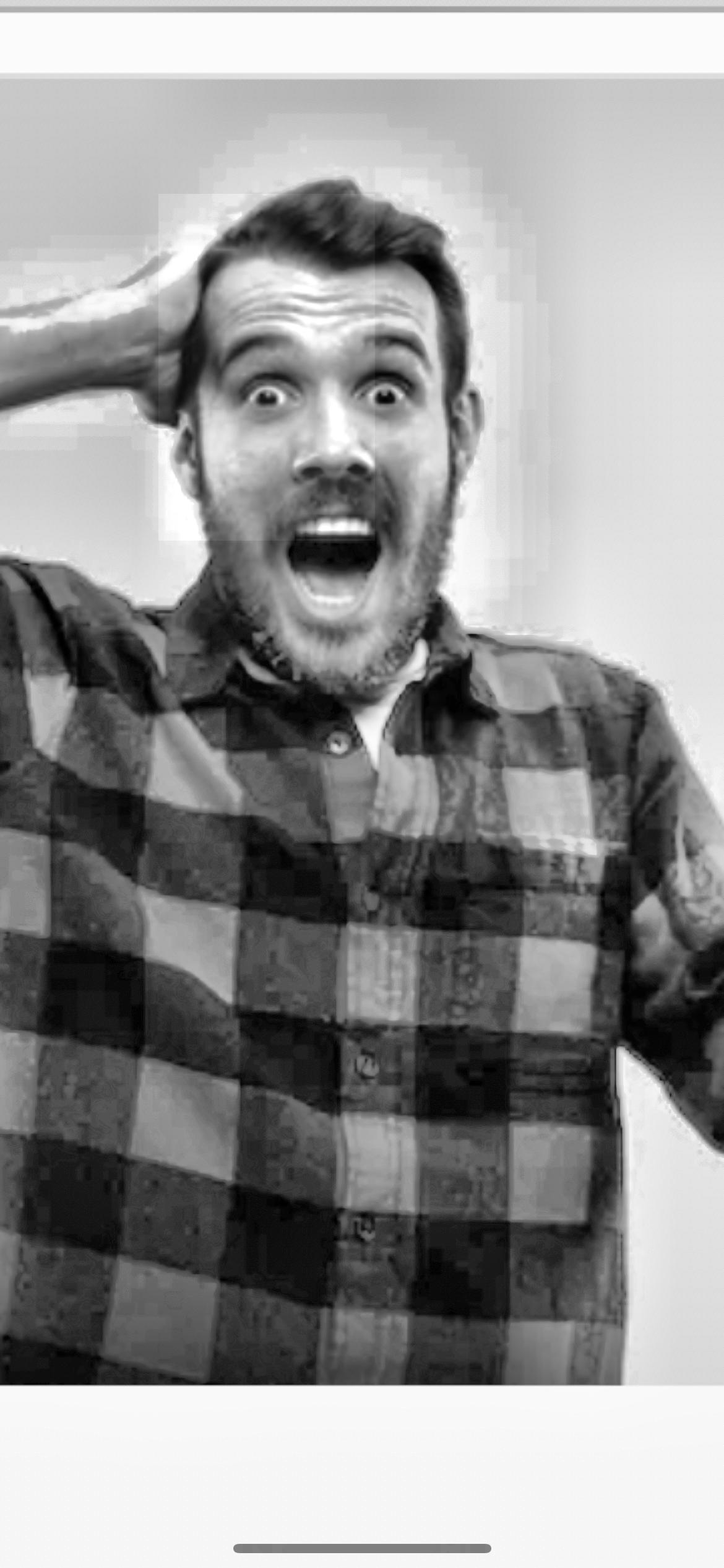Surprised: (196, 240, 464, 668)
